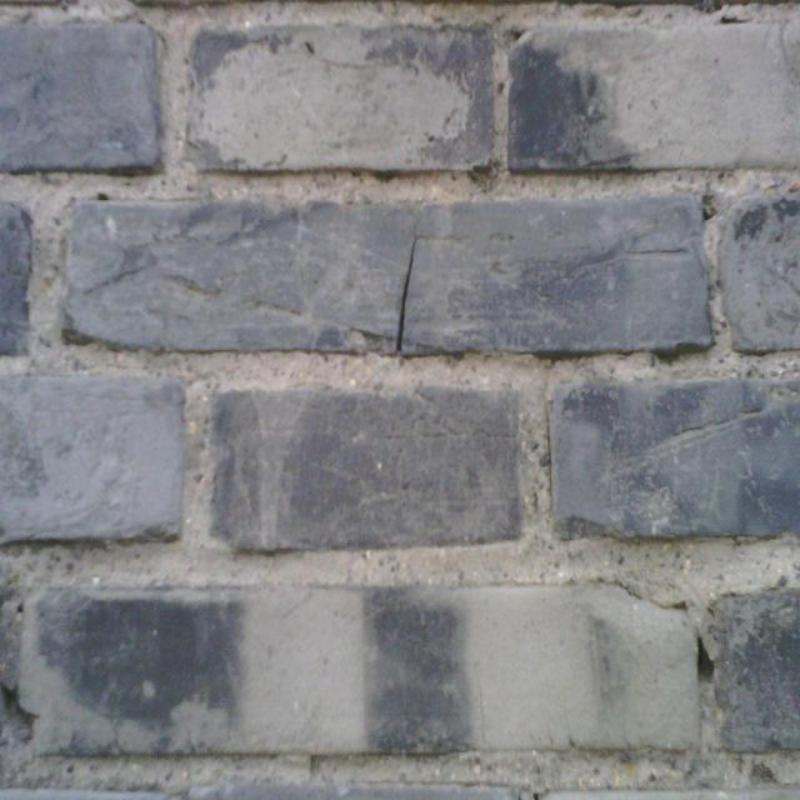pothole: (397, 238, 415, 351), (698, 639, 712, 678)
